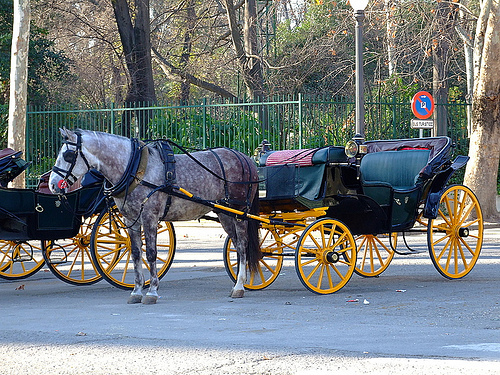horse: (48, 124, 262, 307)
